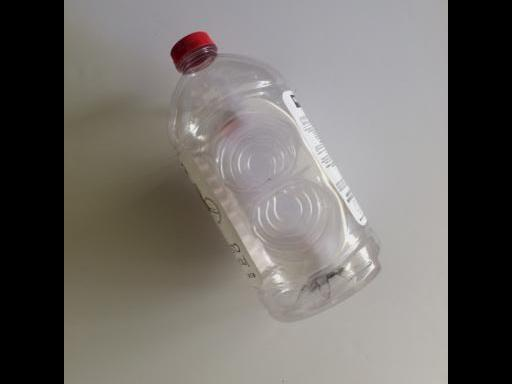bottle: (158, 22, 387, 344)
